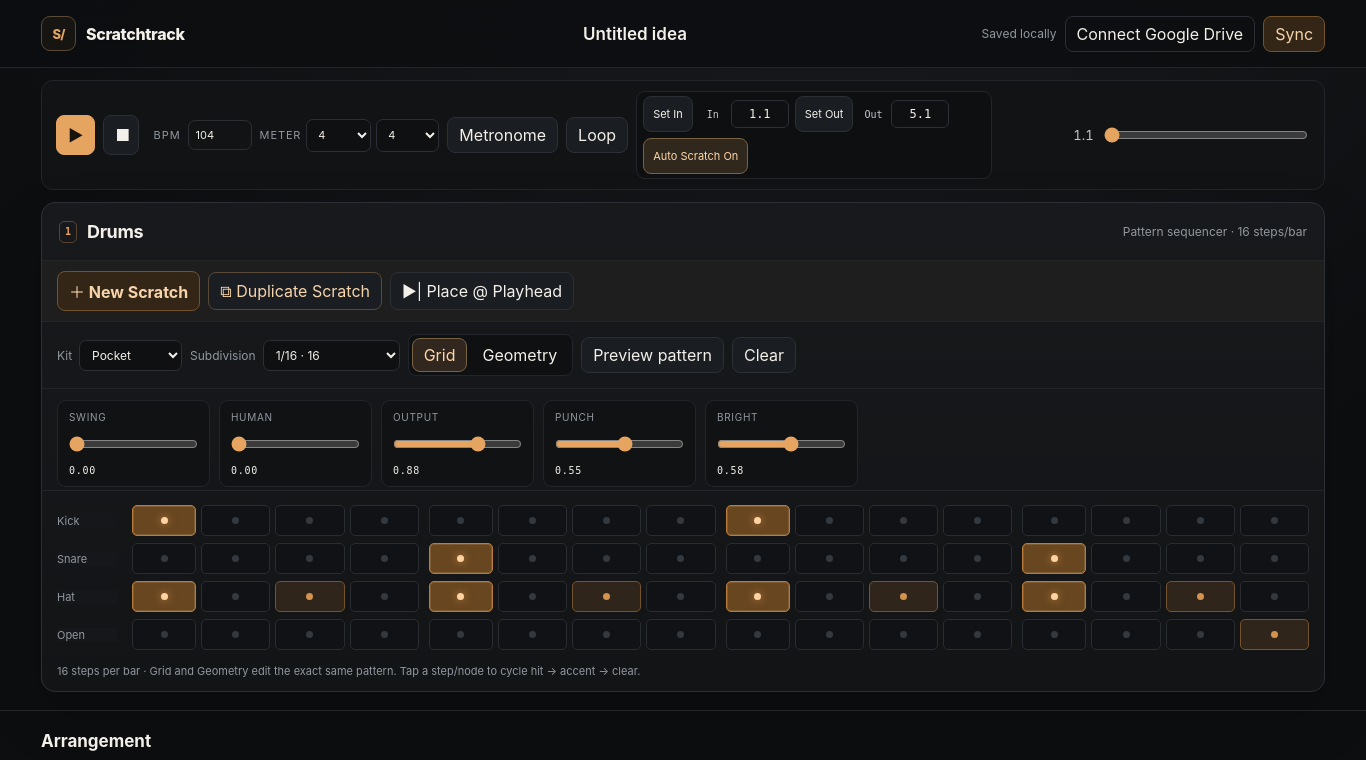
Test: app shell › changes subdivision to triplets (12 steps) preserving timing
Select "1/8 triplet · 12" in the dropdown named "Drum subdivision": (331, 355) [263,340,400,370]
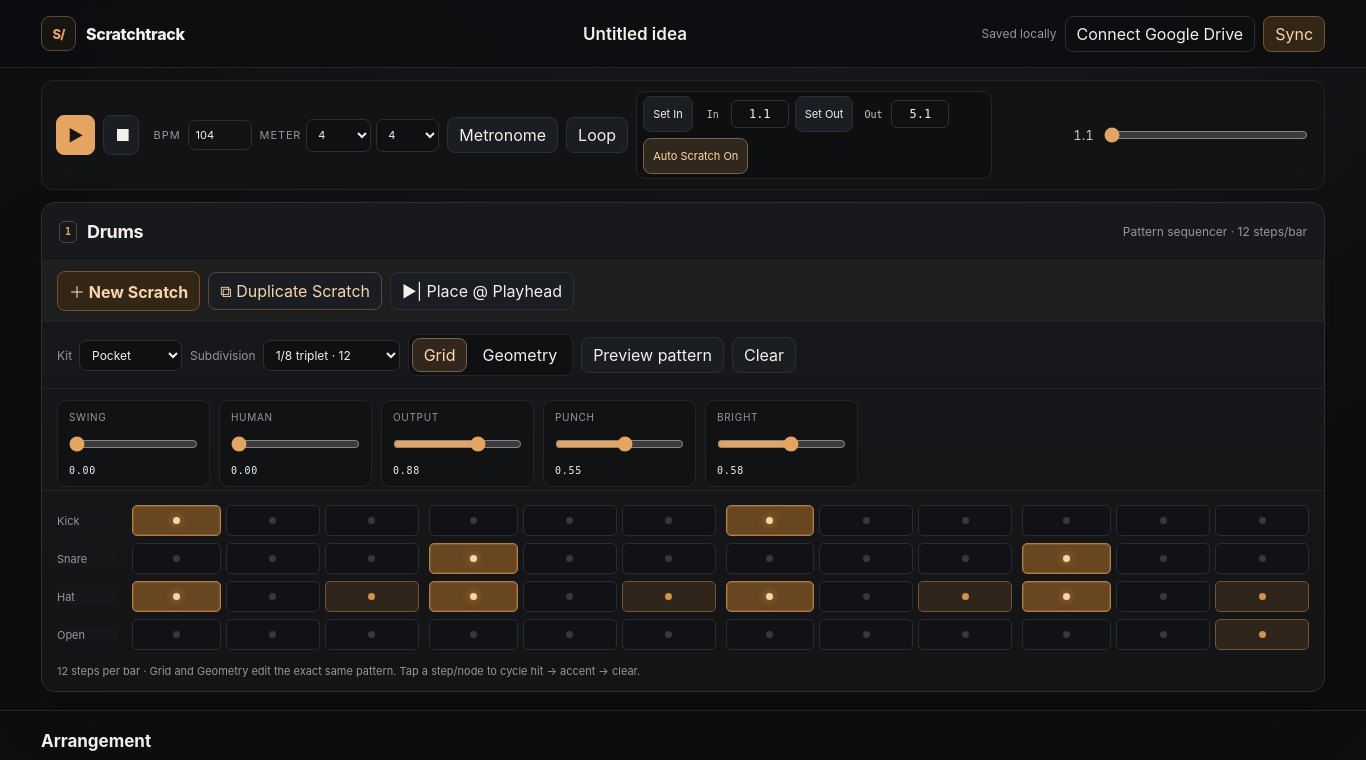
Result: the text "12 steps per bar" is shown at [57,664,640,678]
